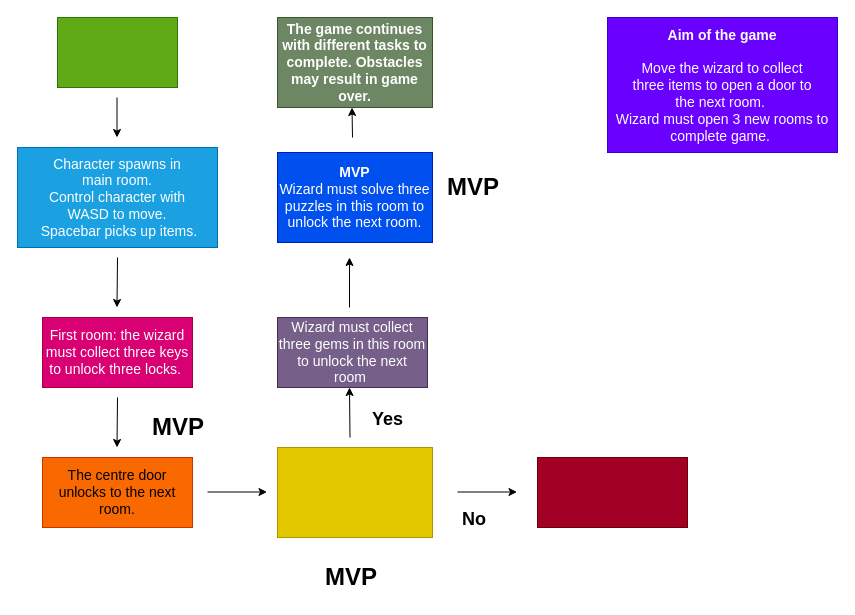
The diagram is 855 pixels wide and 615 high, and some of its shapes have lost their labels. The centre of each missing label's shape, as x and y in pixels:
"Click green flag" goes at point 117,52.
"Game over!" goes at point 612,492.
"MVP Does player manage to avoid ghost in next room?" goes at point 354,492.
